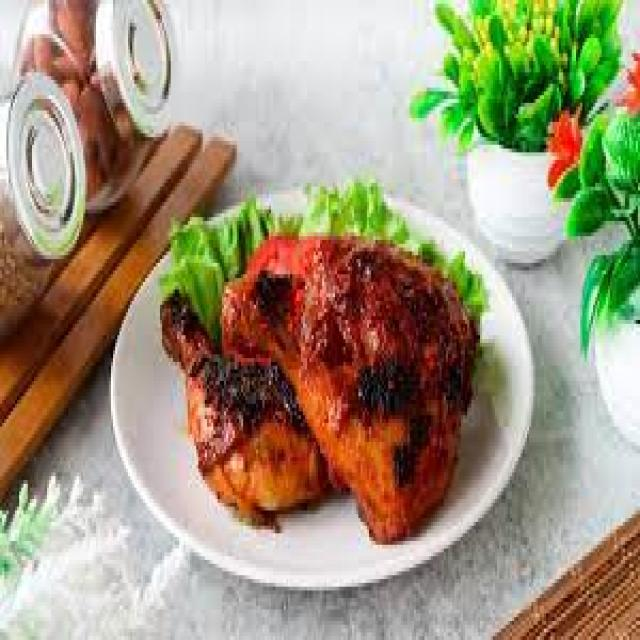ayam bakar: (220, 236, 480, 545), (160, 293, 335, 530)
